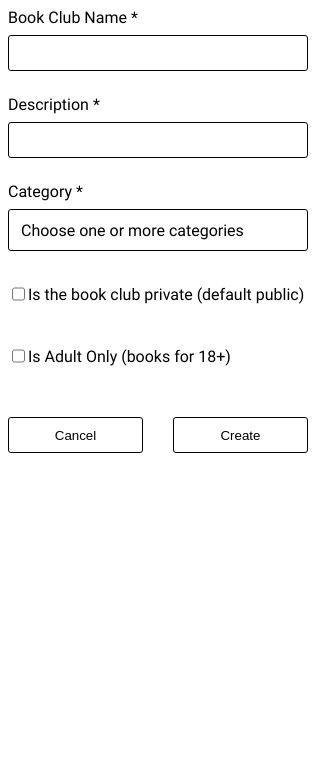
Test: BookClubForm › should have a select element
Click the button with test id "book-club-select-button" at (158, 230), box [8,209,308,251]
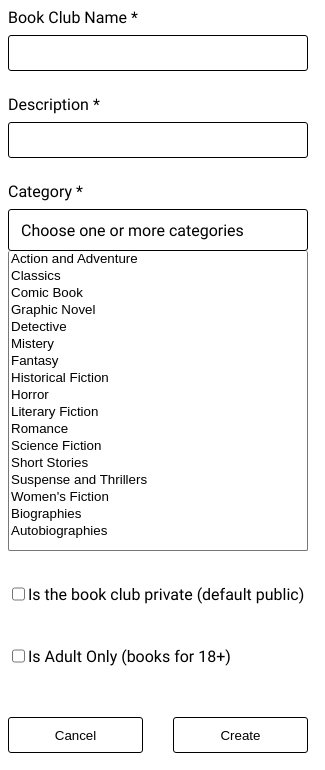
Expected: the dropdown with test id "category-select" is shown, [8,251,308,551]
